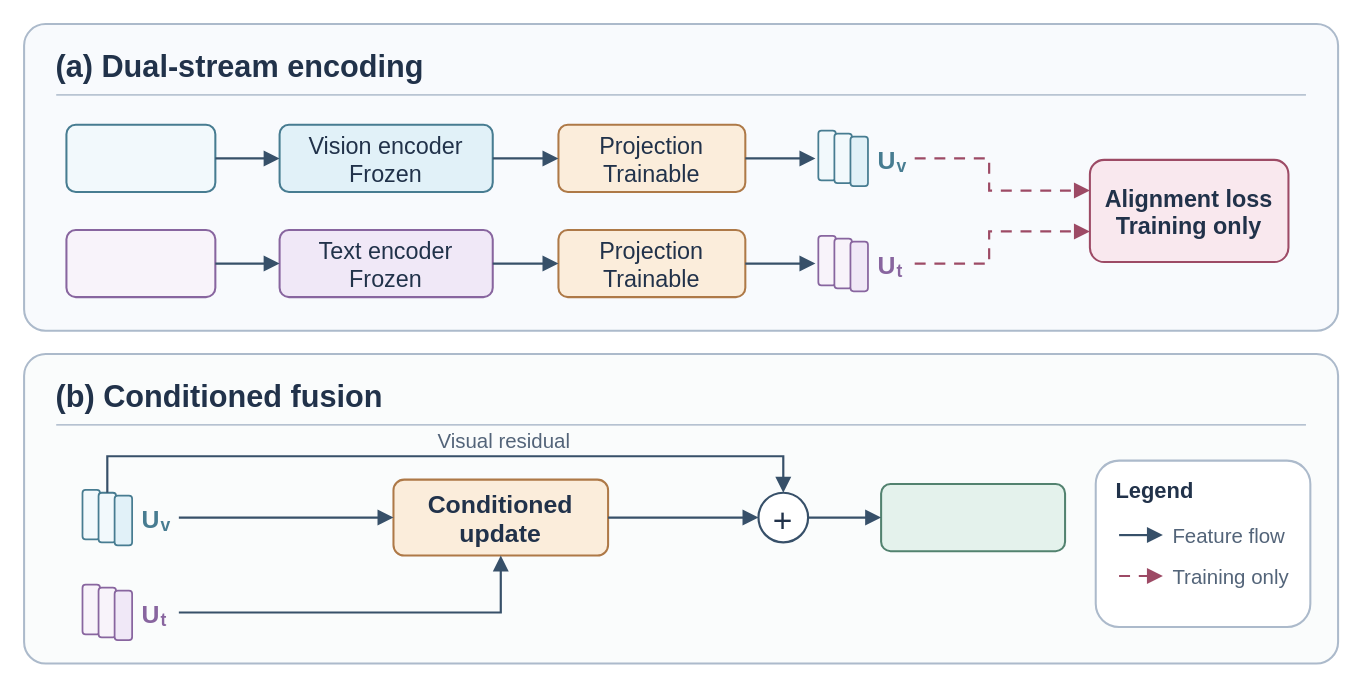
This 1362x688 diagram has some shape labels left out. The box of each missing label's shape, as (x1, y1, x2, y2) in pixels:
Fused features: (879, 482, 1065, 551)
Image: (65, 123, 216, 192)
Prompt: (65, 228, 216, 297)
